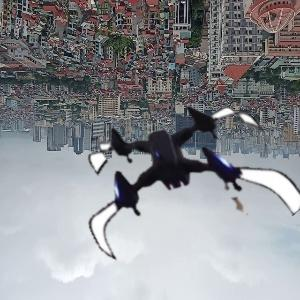drone: (70, 75, 281, 286)
